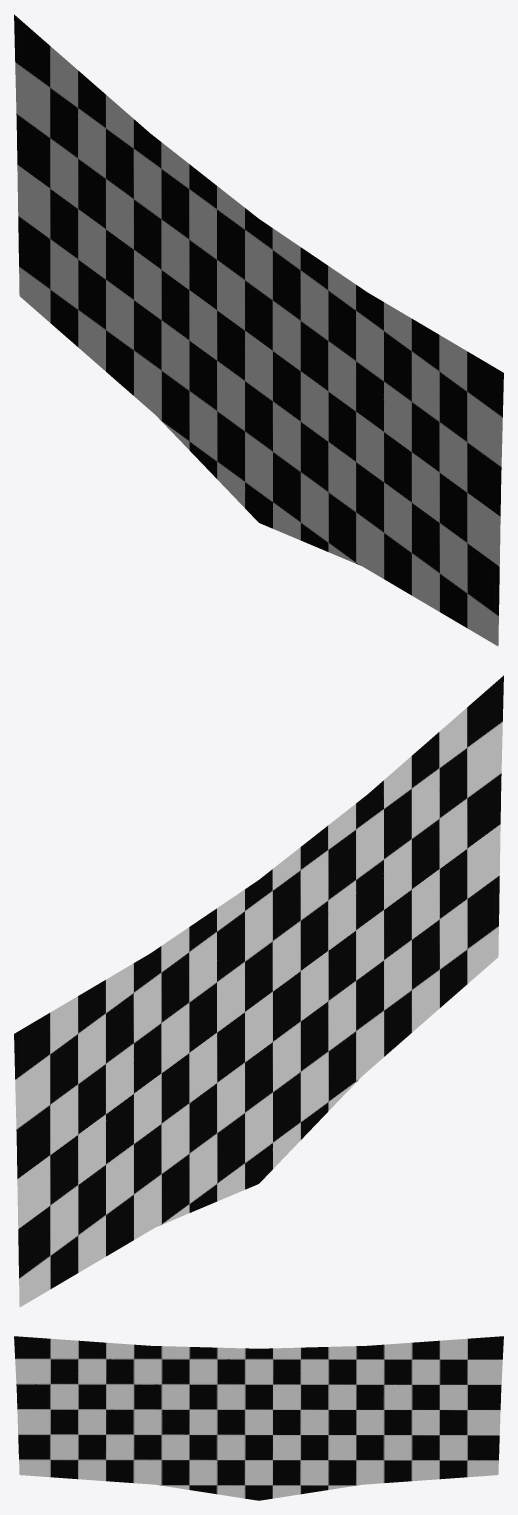
The model's file is Flag.fbx.
3 renders of one model, top to bottom at view 1: azimuth 30°, elevation 25°; view 2: azimuth 150°, elevation 25°; view 3: azimuth 270°, elevation 25°, orthographic. The views are drawn at different scales.
Visible parts, largest first — view 1: Flag; view 2: Flag; view 3: Flag.
Boxes of the visible parts, x1=… form: Flag: x1=14, y1=14, x2=503, y2=646; Flag: x1=14, y1=675, x2=503, y2=1307; Flag: x1=14, y1=1336, x2=503, y2=1500.
Bounding box in the file's own units: 2.07e-15 × 5.79 × 15.61.
